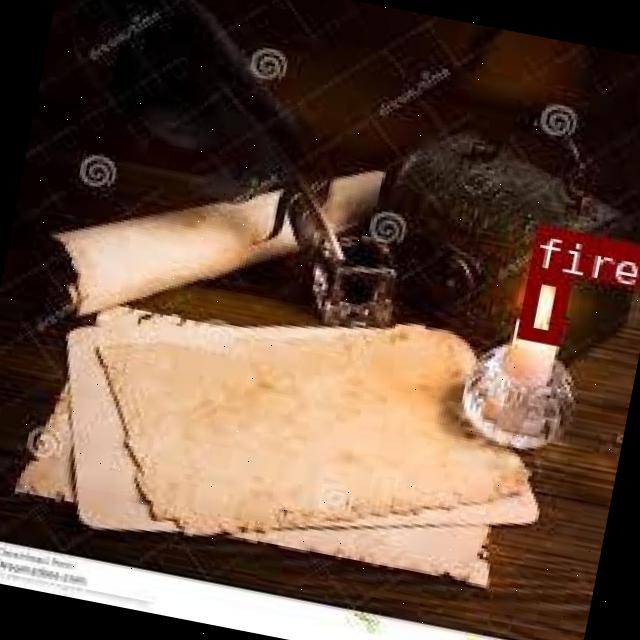fire: (515, 266, 570, 342)
